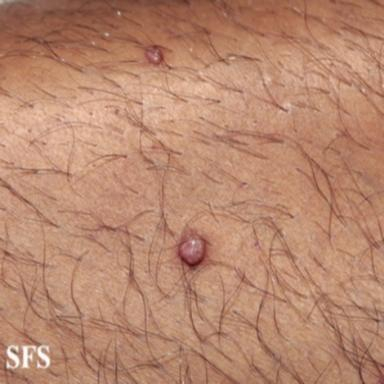Molluscum-Contagiosum: (179, 233, 205, 266), (145, 46, 163, 65)
